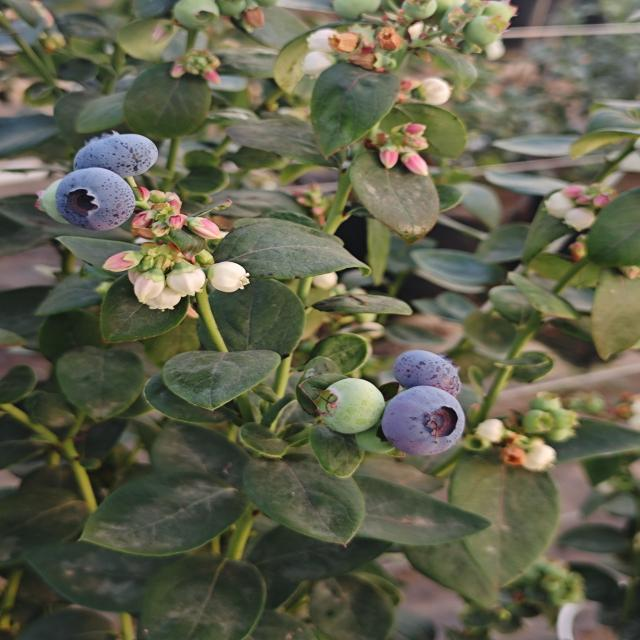ripe: (379, 384, 468, 458), (52, 166, 138, 233), (70, 131, 160, 180), (390, 348, 464, 397)
